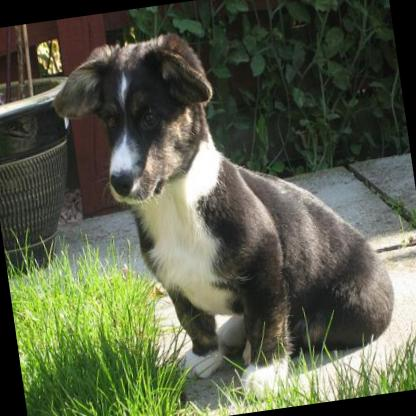Cardigan: (44, 5, 405, 416)
